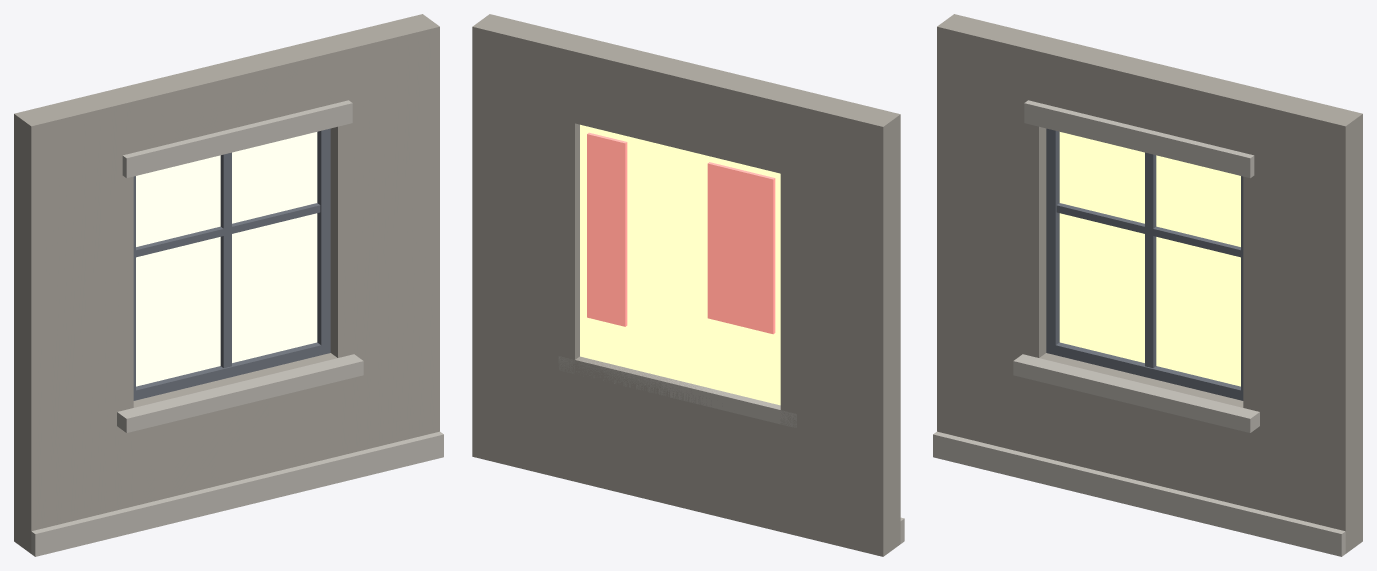
The model's file is wall_window_lit.glb.
The picture shows the model from 3 angles, left to right: view 1: azimuth 30°, elevation 25°; view 2: azimuth 150°, elevation 25°; view 3: azimuth 330°, elevation 25°; orthographic projection.
Visible parts, largest first — view 1: wall_window_lit; view 2: wall_window_lit; view 3: wall_window_lit.
Boxes of the visible parts, x1,y1,x2,y2 form: wall_window_lit: [14, 14, 443, 556]; wall_window_lit: [472, 14, 904, 556]; wall_window_lit: [933, 14, 1362, 556].
Bounding box in the file's own units: 3 × 3 × 0.34.
